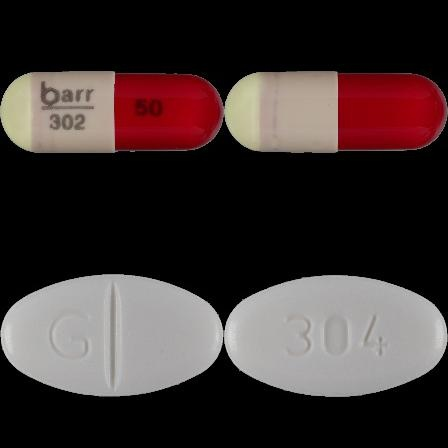69189-0302: (0, 0, 224, 224)
